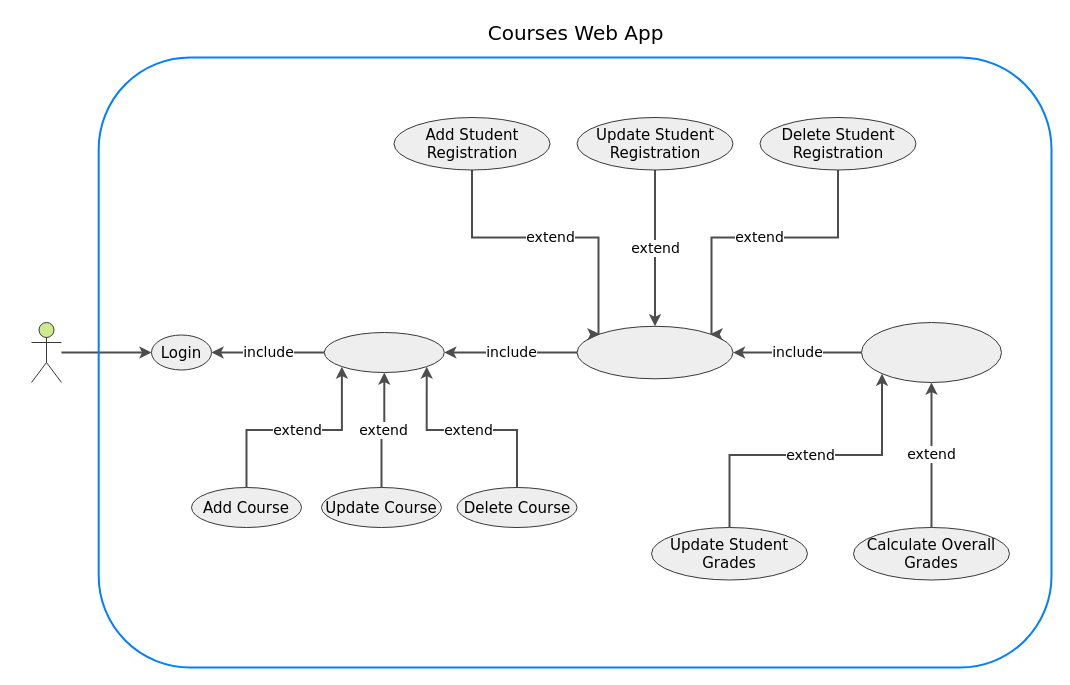
This 1070x685 diagram has some shape labels left out. The shapes that lost their labels are listed below. From the top down, each one's box as (x1, y1, x2, y2) in pixels, then its label:
(30, 322, 62, 382): Instructor
(323, 332, 444, 372): Browse Courses
(576, 325, 733, 379): Browse Student Registrations
(860, 322, 1002, 382): Browse Student Grades
